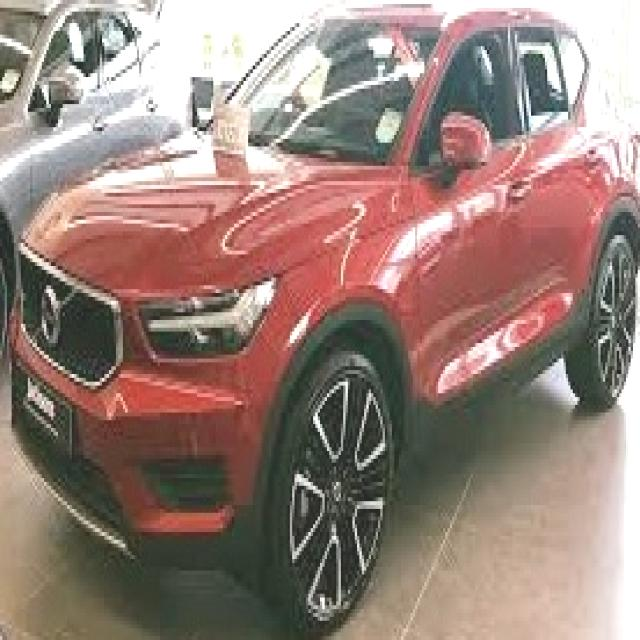maroon: (41, 19, 640, 532)
